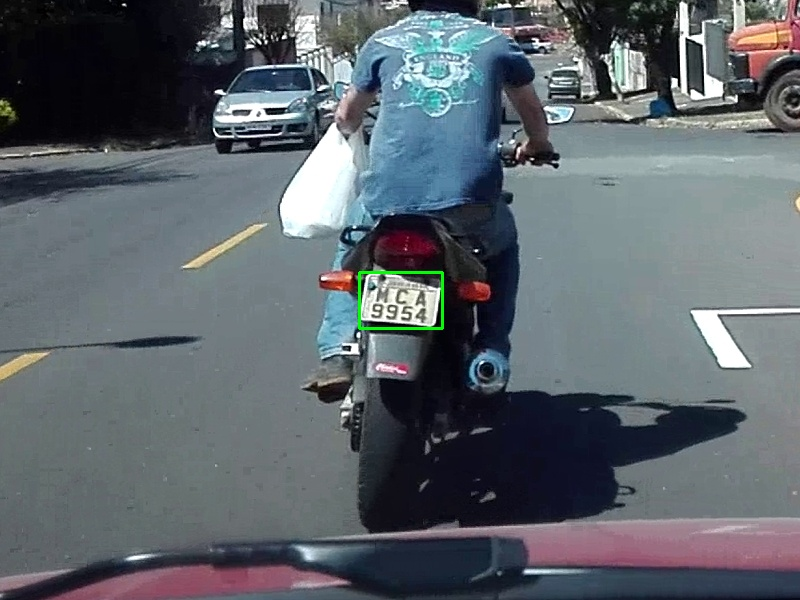placa: (359, 272, 442, 328)
